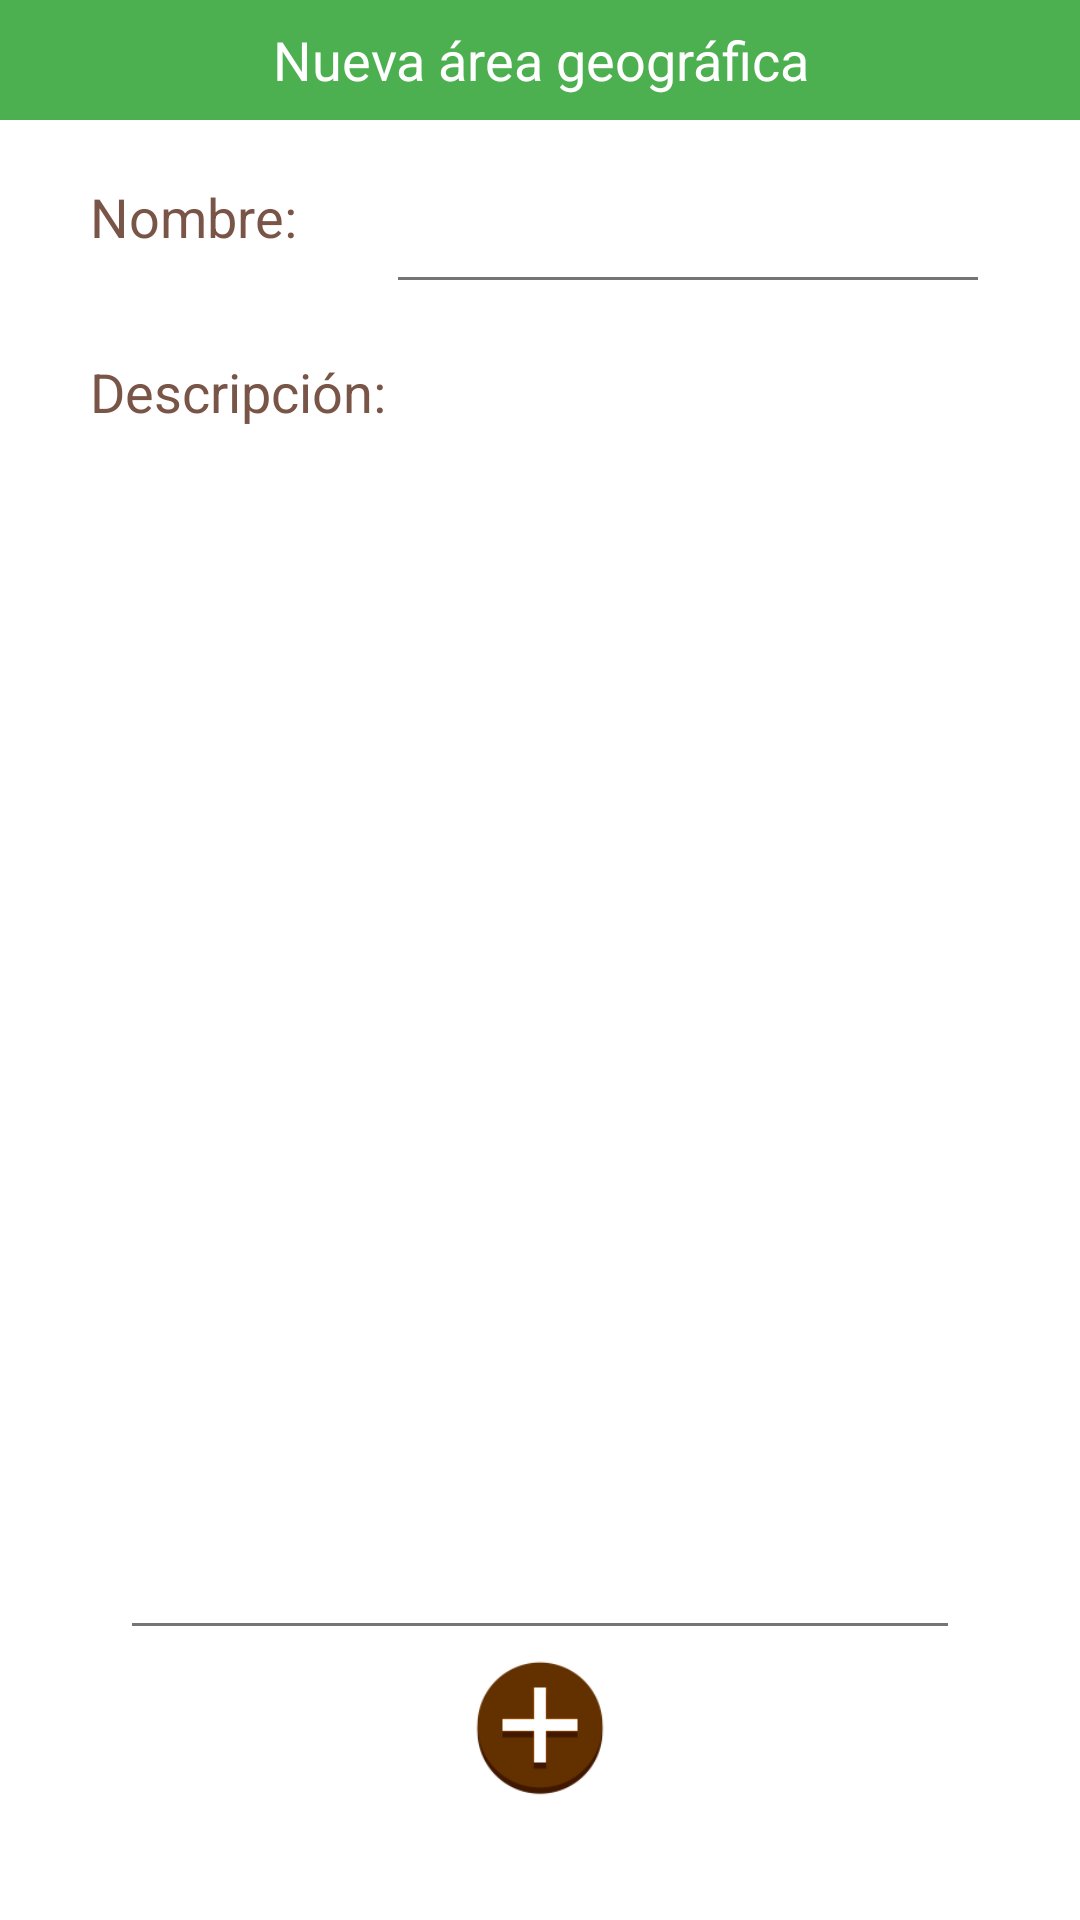

Named icons in this screenshot (1080px×1920px) and their centers, (x=x, y=y):
agregar: (x=540, y=1728)
